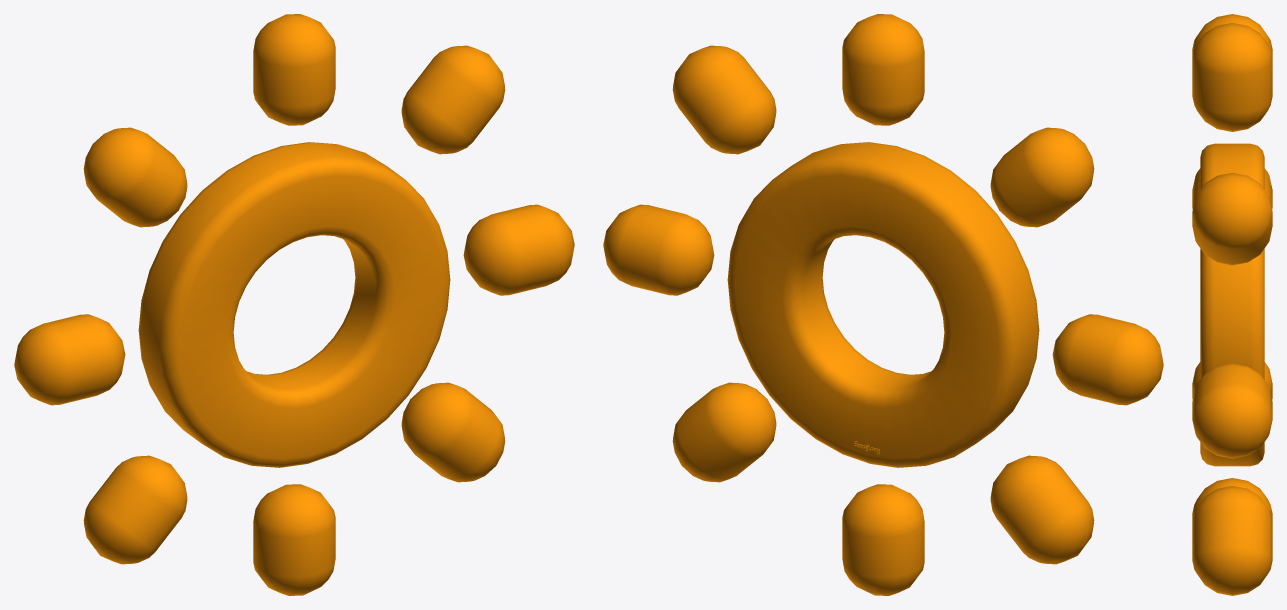
File: dim_button.fbx
The picture shows the model from 3 angles, left to right: view 1: azimuth 30°, elevation 25°; view 2: azimuth 150°, elevation 25°; view 3: azimuth 270°, elevation 25°; orthographic projection. The views are drawn at different scales.
Parts seen in each view (by area): view 1: Circle.2632; view 2: Circle.2632; view 3: Circle.2632.
Boxes of the visible parts, x1=… form: Circle.2632: x1=14, y1=14, x2=574, y2=595; Circle.2632: x1=603, y1=14, x2=1163, y2=595; Circle.2632: x1=1192, y1=14, x2=1272, y2=595.
Size of the model in its own units: 194 by 194 by 25.37.
1 material, 1 textured.
